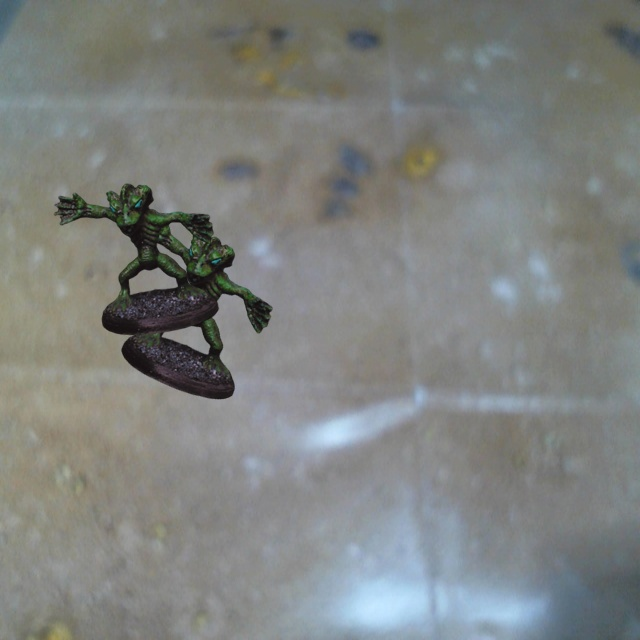pieza_juego: (121, 213, 272, 398), (54, 183, 218, 334)
